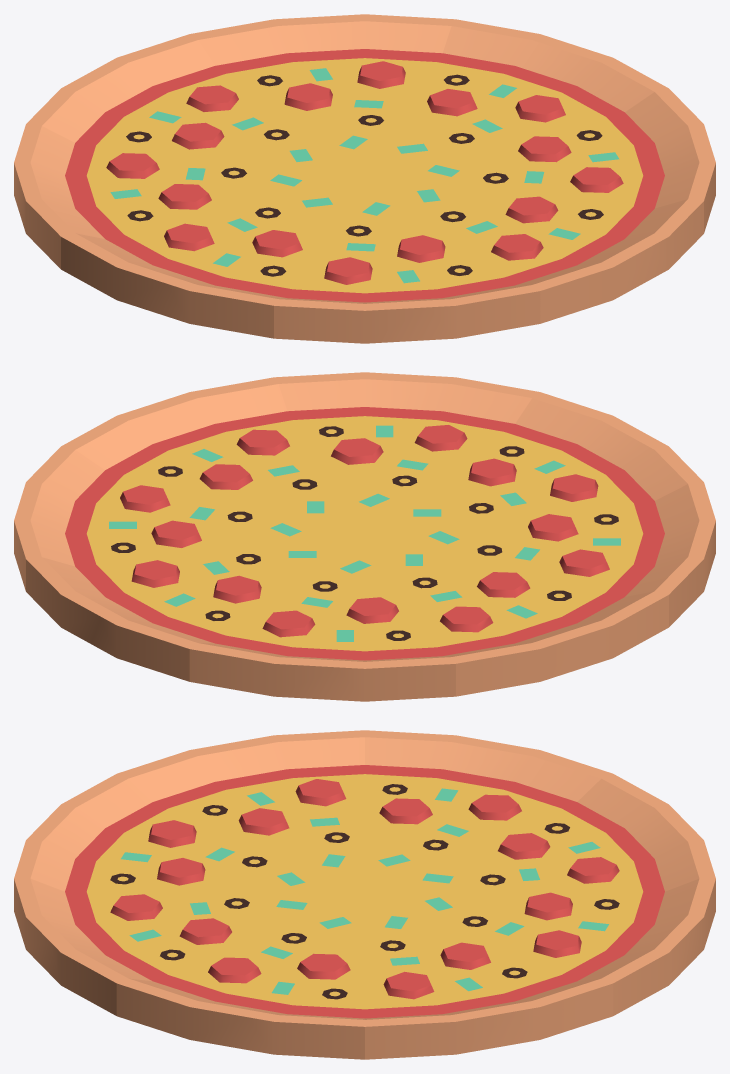
Rendered from pizza.glb.
The picture shows the model from 3 angles, top to bottom: view 1: azimuth 30°, elevation 25°; view 2: azimuth 150°, elevation 25°; view 3: azimuth 270°, elevation 25°; orthographic projection.
Parts seen in each view (by area): view 1: slice3, slice4, slice2, slice7, slice8, slice6, slice5, slice1; view 2: slice6, slice5, slice7, slice2, slice1, slice3, slice4, slice8; view 3: slice1, slice8, slice4, slice5, slice2, slice7, slice3, slice6.
Boxes of the visible parts, box(x1,y1,x2,y2) form: slice3: box(274, 176, 540, 343); slice4: box(61, 176, 364, 338); slice2: box(365, 175, 703, 323); slice7: box(190, 14, 455, 175); slice8: box(365, 19, 668, 175); slice6: box(26, 34, 364, 175); slice5: box(14, 124, 364, 268); slice1: box(366, 88, 715, 232); slice6: box(189, 534, 455, 701); slice5: box(365, 534, 668, 696); slice7: box(26, 533, 364, 681); slice2: box(274, 372, 539, 533); slice1: box(61, 377, 364, 533); slice3: box(365, 392, 703, 533); slice4: box(365, 482, 715, 626); slice8: box(14, 446, 363, 590); slice1: box(116, 892, 364, 1059); slice8: box(365, 892, 613, 1059); slice4: box(117, 730, 364, 891); slice5: box(365, 730, 612, 891); slice2: box(14, 878, 364, 1015); slice7: box(365, 878, 715, 1015); slice3: box(14, 774, 363, 891); slice6: box(366, 774, 715, 891).
Size of the model in its own units: 0.2485 by 0.0128 by 0.2485.
